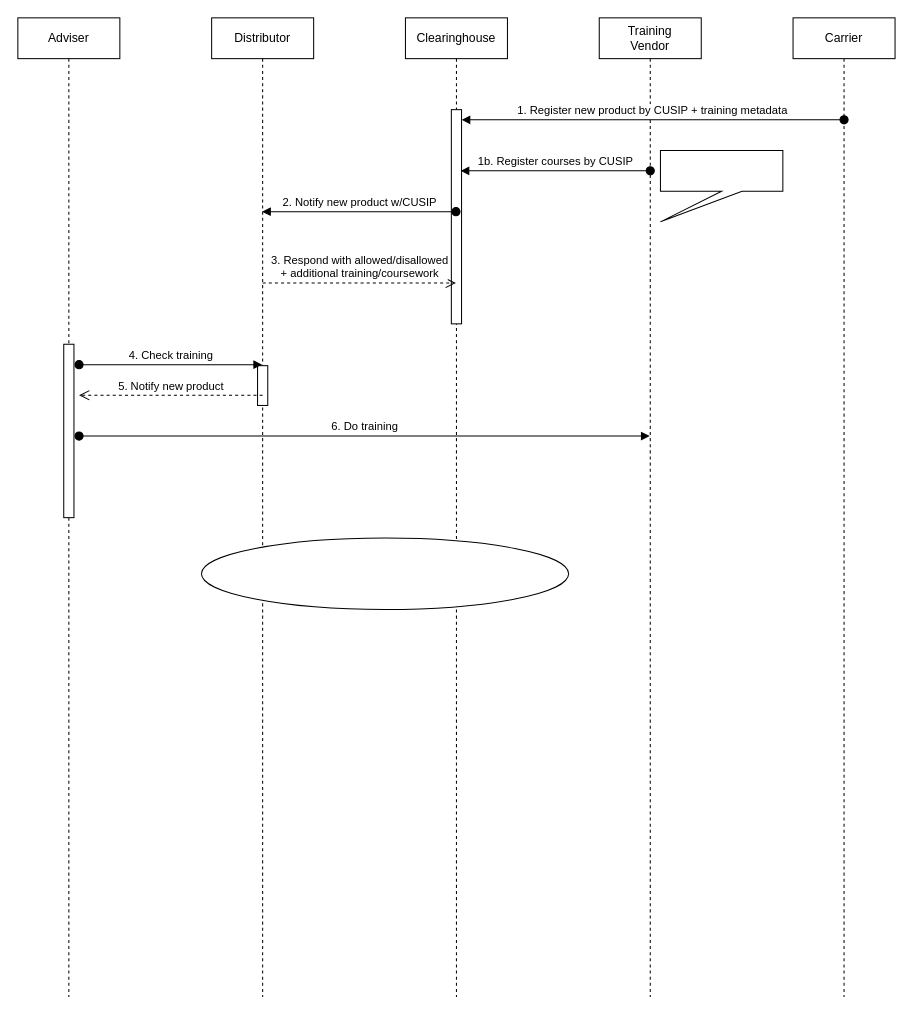
Some shapes in this 913 by 1015 pixel diagram are drawn without their labels. The shapes that lost their labels are listed below. From the top down, each one's centre as x and y in pixels, then its label:
the point at 721,185: How does the training vendor find out about new carrier products?
the point at 384,573: Fall into normal pub/sub model
